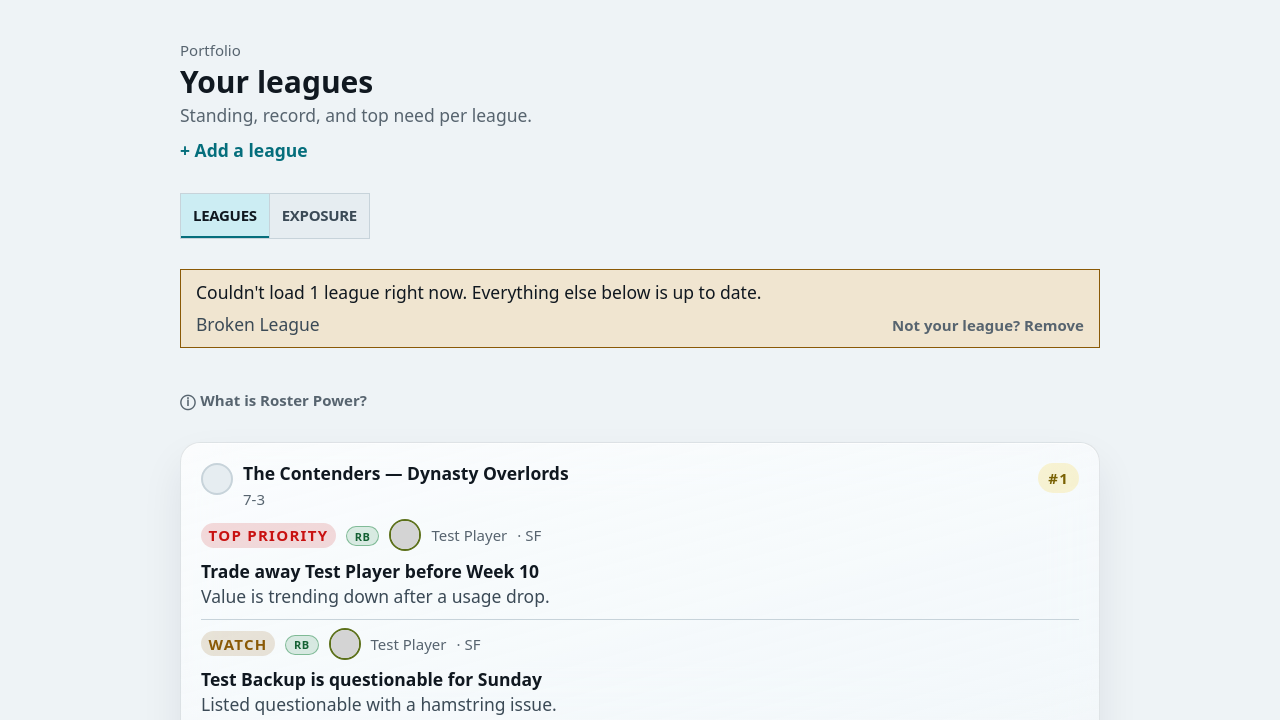
Test: PortfolioContent › removes a failed league from the note when Remove succeeds
The image size is (1280, 720).
Click the button "Not your league? Remove" at (988, 325), box [892,315,1084,335]
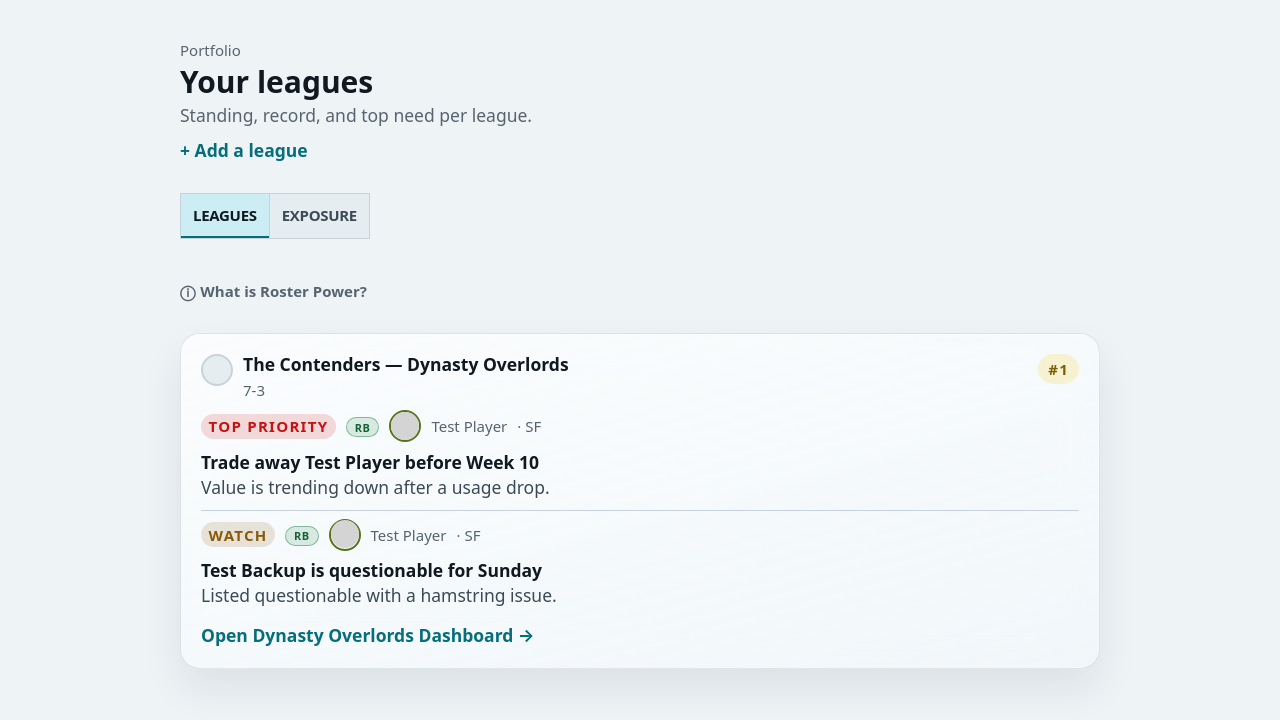
Now the text "Broken League" is gone
